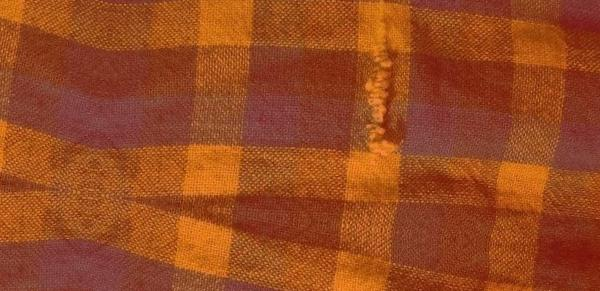knot: (357, 24, 412, 160)
